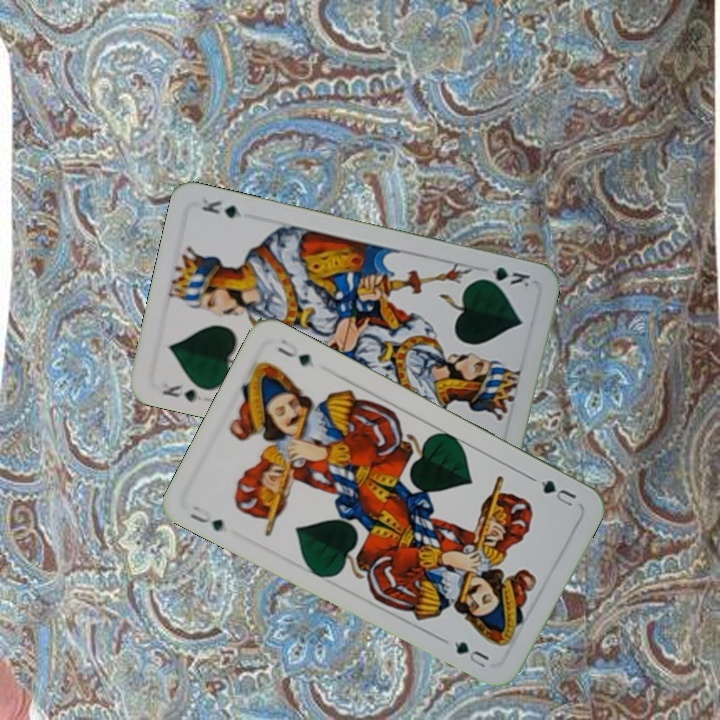GK: (475, 263, 533, 290), (158, 378, 205, 405)
GU: (527, 473, 579, 510), (186, 501, 226, 535)
